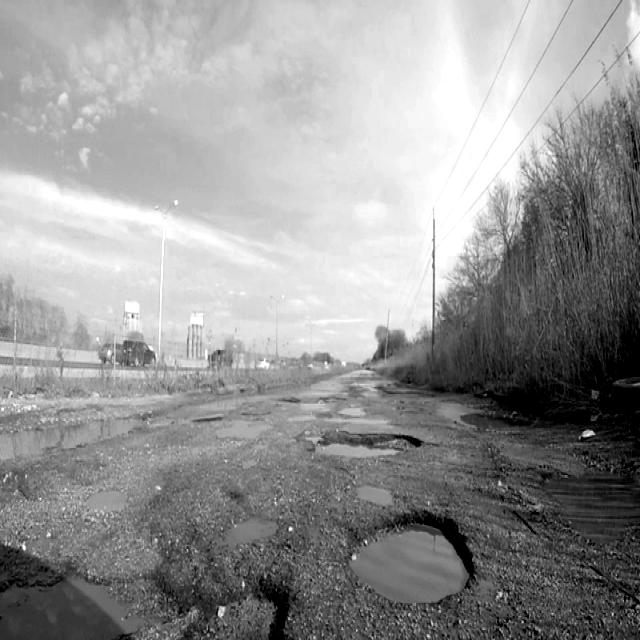pathole: (204, 379, 471, 640), (0, 522, 215, 640), (0, 394, 221, 498), (531, 427, 640, 576), (446, 357, 556, 483)
